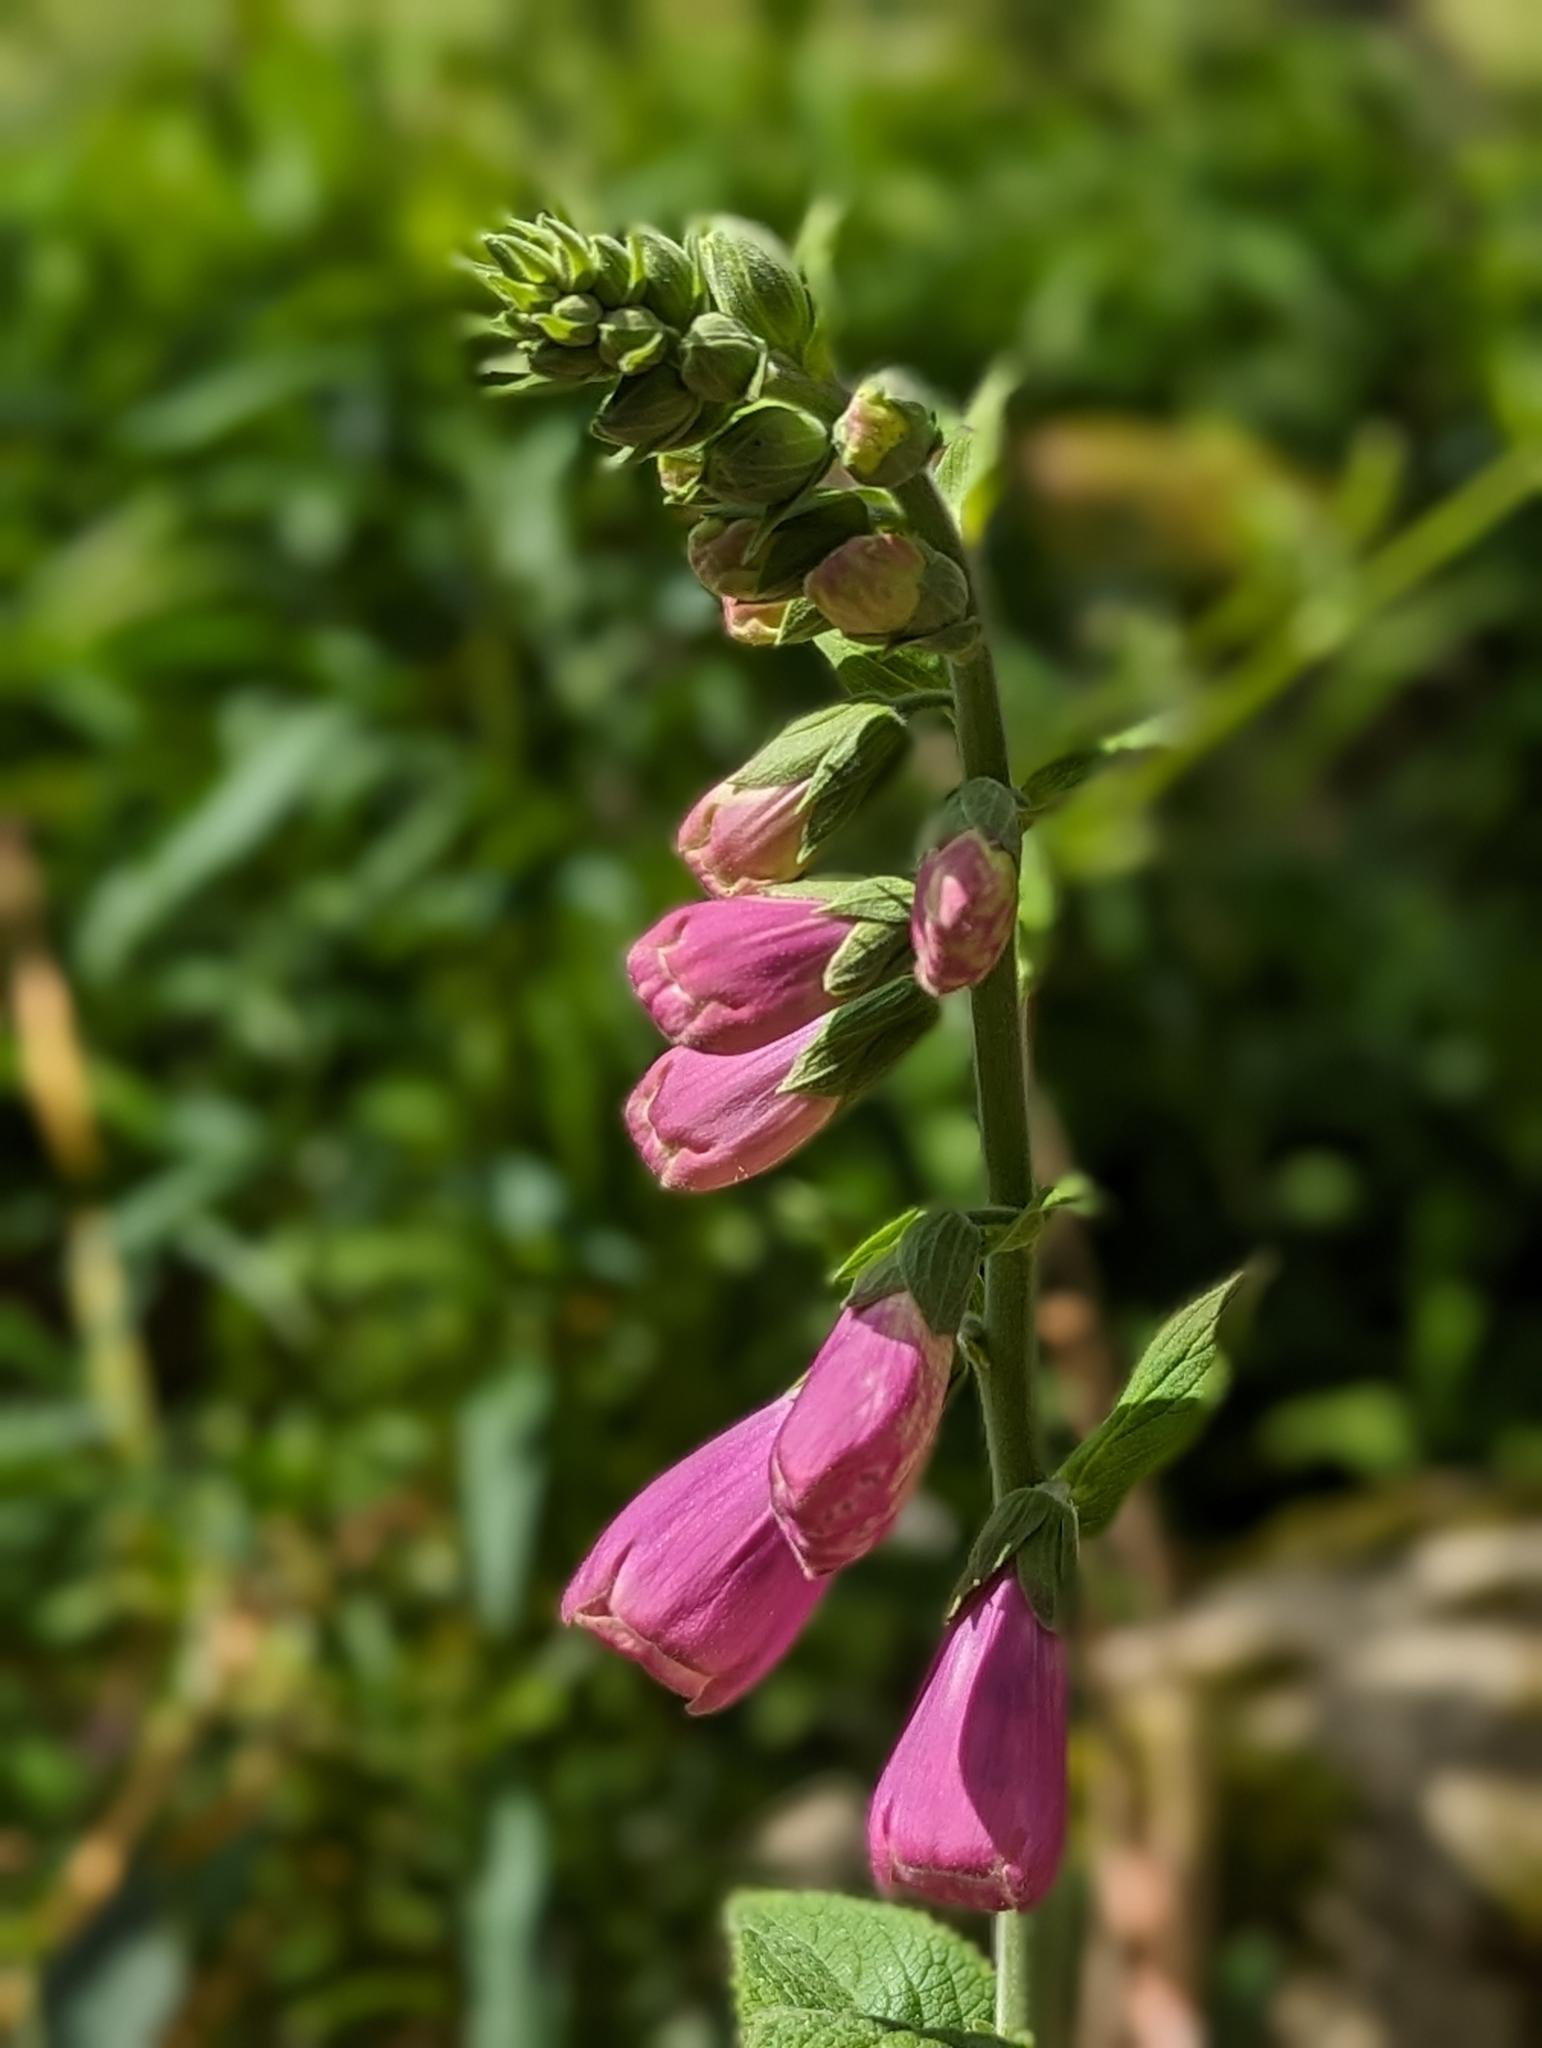Digitalis L: (457, 206, 1207, 1936)
